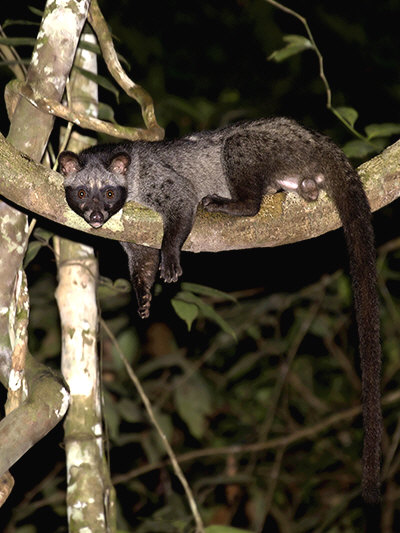Civet: (51, 111, 394, 322)
